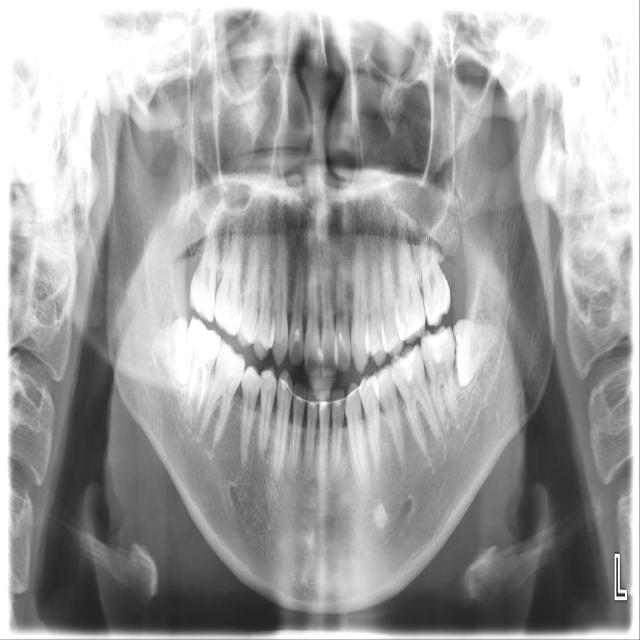Crown: (187, 316, 221, 364)
Filling: (427, 329, 448, 362), (395, 350, 416, 382), (195, 353, 209, 373), (295, 329, 301, 341), (317, 347, 321, 359), (321, 347, 324, 359)
Root Canal Treatment: (189, 359, 198, 397), (198, 371, 207, 407)
impacted tooth: (452, 319, 499, 386), (143, 317, 189, 385)
